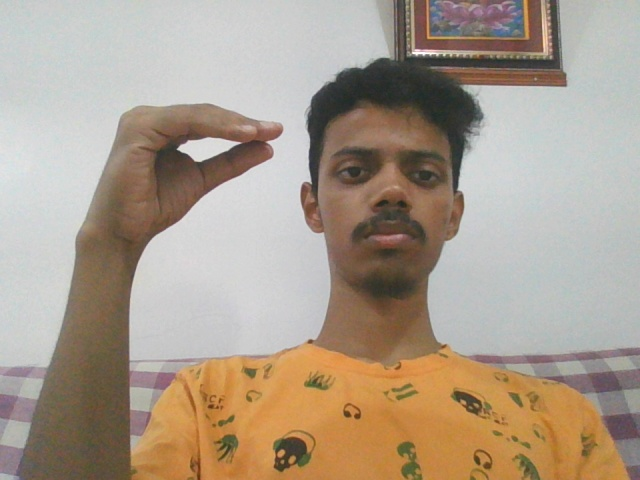No: (77, 103, 282, 241)
